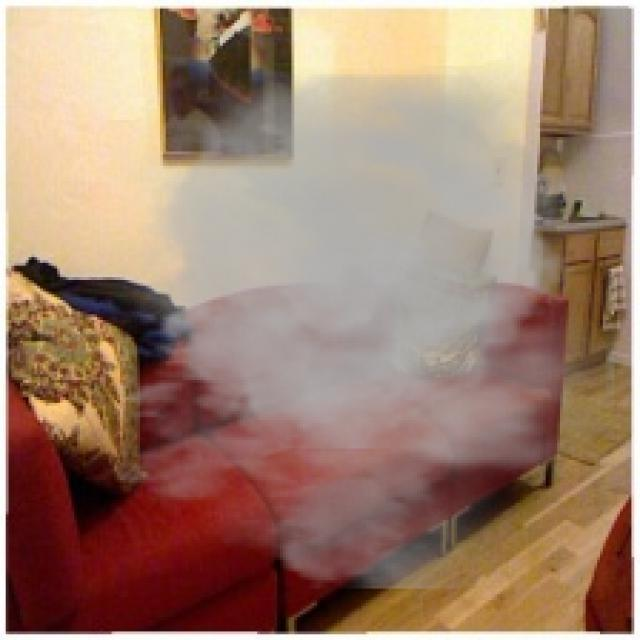Smoke: (62, 42, 614, 588)
